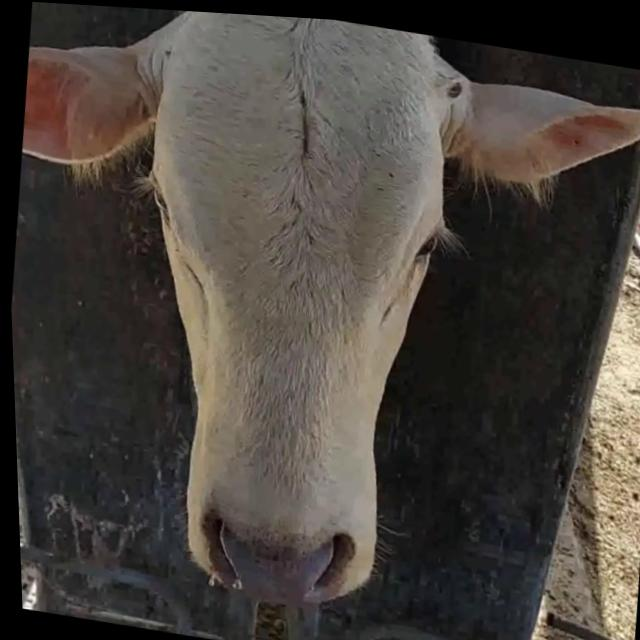cowFace: (102, 5, 475, 619)
